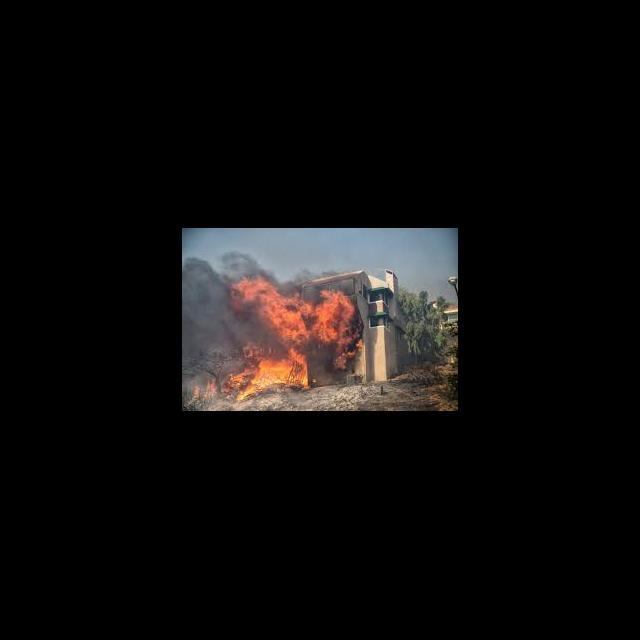Fire: (187, 272, 364, 404)
